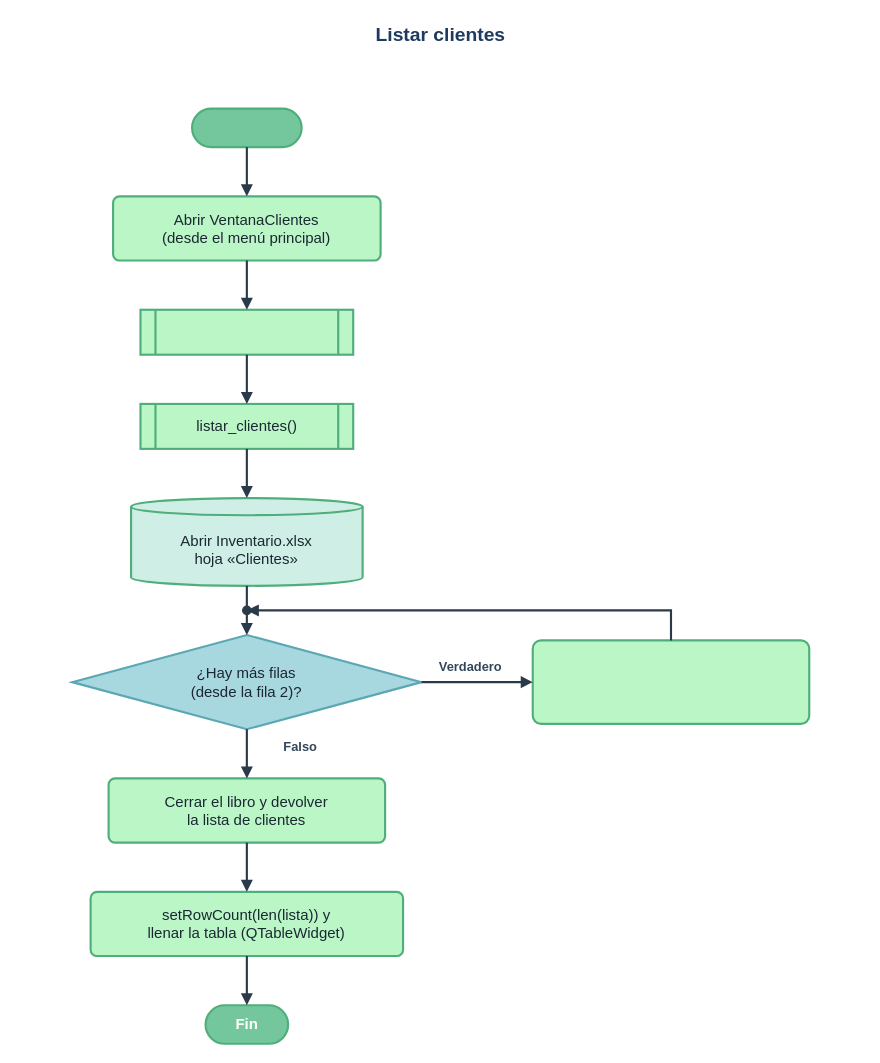
The diagram is 880 pixels wide and 1063 high, and some of its shapes have lost their labels. The centre of each missing label's shape, as x and y in pixels:
cargar_clientes(): point 246,331
Inicio: point 246,127
Si «Nombre» no está vacío: guardar {nombre, nit, direccion} en la lista: point 670,681
